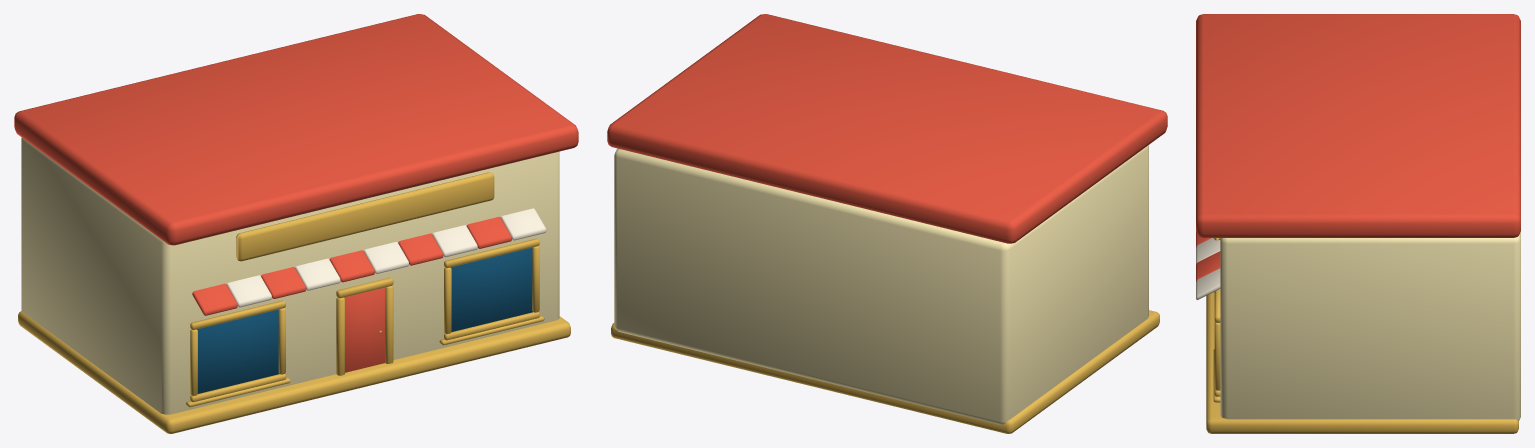
Rendered from shop.glb.
3 views of the same model, side by side, from view 1: azimuth 30°, elevation 25°; view 2: azimuth 150°, elevation 25°; view 3: azimuth 270°, elevation 25° (orthographic). The views are drawn at different scales.
Visible parts, largest first — view 1: shop; view 2: shop; view 3: shop.
Part boxes in pixels (bbox=[...]): shop: bbox=[14, 14, 578, 433]; shop: bbox=[607, 14, 1167, 433]; shop: bbox=[1196, 14, 1520, 433].
Size of the model in its own units: 12 by 6 by 8.
